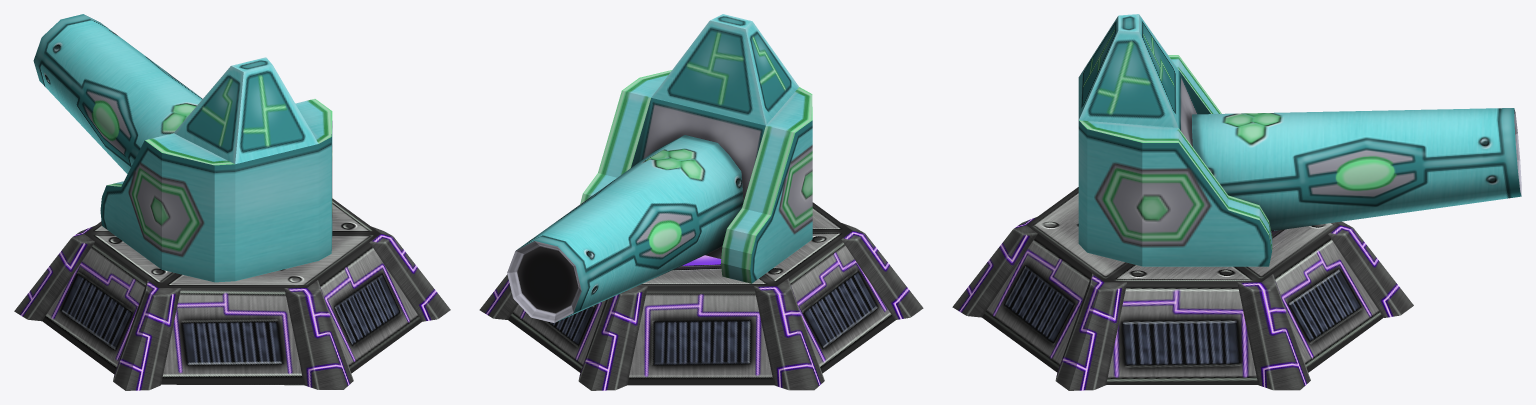
Rendered from Tower_NormalDoT.FBX.
3 views of the same model, side by side, from view 1: azimuth 30°, elevation 25°; view 2: azimuth 150°, elevation 25°; view 3: azimuth 270°, elevation 25° (orthographic). The views are drawn at different scales.
Visible parts, largest first — view 1: Body_NormalDoT, Base_NormalDoT; view 2: Body_NormalDoT, Base_NormalDoT; view 3: Body_NormalDoT, Base_NormalDoT.
Part boxes in pixels (x1,y1,x2,y2): Body_NormalDoT: [33, 14, 332, 282]; Base_NormalDoT: [14, 198, 450, 390]; Body_NormalDoT: [507, 14, 812, 322]; Base_NormalDoT: [479, 202, 923, 390]; Body_NormalDoT: [1078, 14, 1521, 266]; Base_NormalDoT: [952, 187, 1413, 390].
Bounding box in the file's own units: 25.65 × 19.77 × 36.35.
